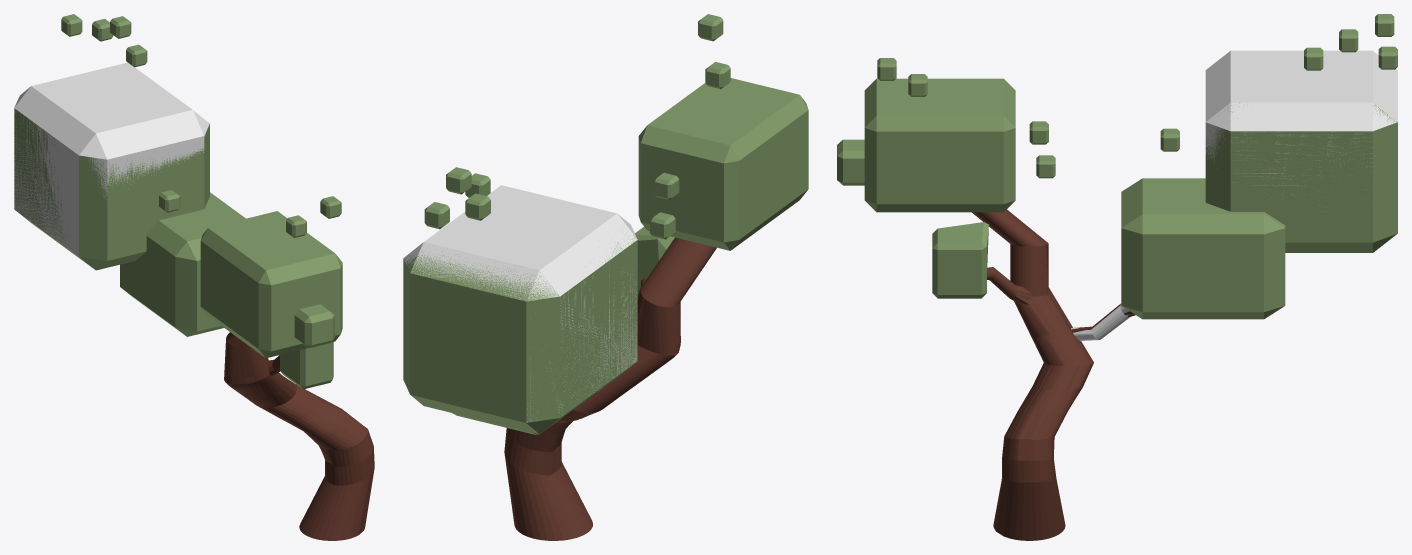
File: Arbol Vale.fbx
The picture shows the model from 3 angles, left to right: view 1: azimuth 30°, elevation 25°; view 2: azimuth 150°, elevation 25°; view 3: azimuth 270°, elevation 25°; orthographic projection. The views are drawn at different scales.
Parts seen in each view (by area): view 1: Cube.003, Cube.005, Cylinder; view 2: Cube.003, Cube.005, Cylinder; view 3: Cube.003, Cylinder, Cube.005, Cylinder.001.
Boxes of the visible parts, x1,y1,x2,y2 form: Cube.003: (14,14,342,389); Cube.005: (14,62,209,256); Cylinder: (224,332,374,540); Cube.003: (403,14,808,435); Cube.005: (403,185,637,422); Cylinder: (504,237,716,540); Cube.003: (837,14,1397,319); Cylinder: (972,209,1135,540); Cube.005: (1205,50,1397,211); Cylinder.001: (1071,303,1130,340).
Bounding box in the file's own units: 1317 × 2631 × 2918.
